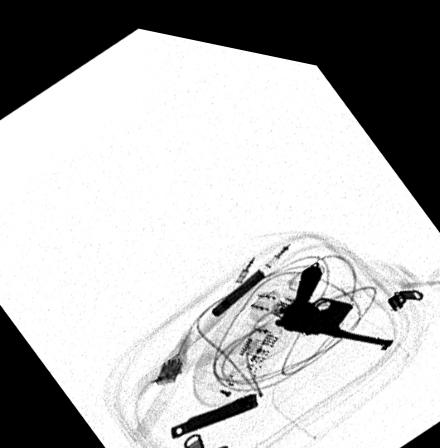Gun: (273, 247, 393, 336)
